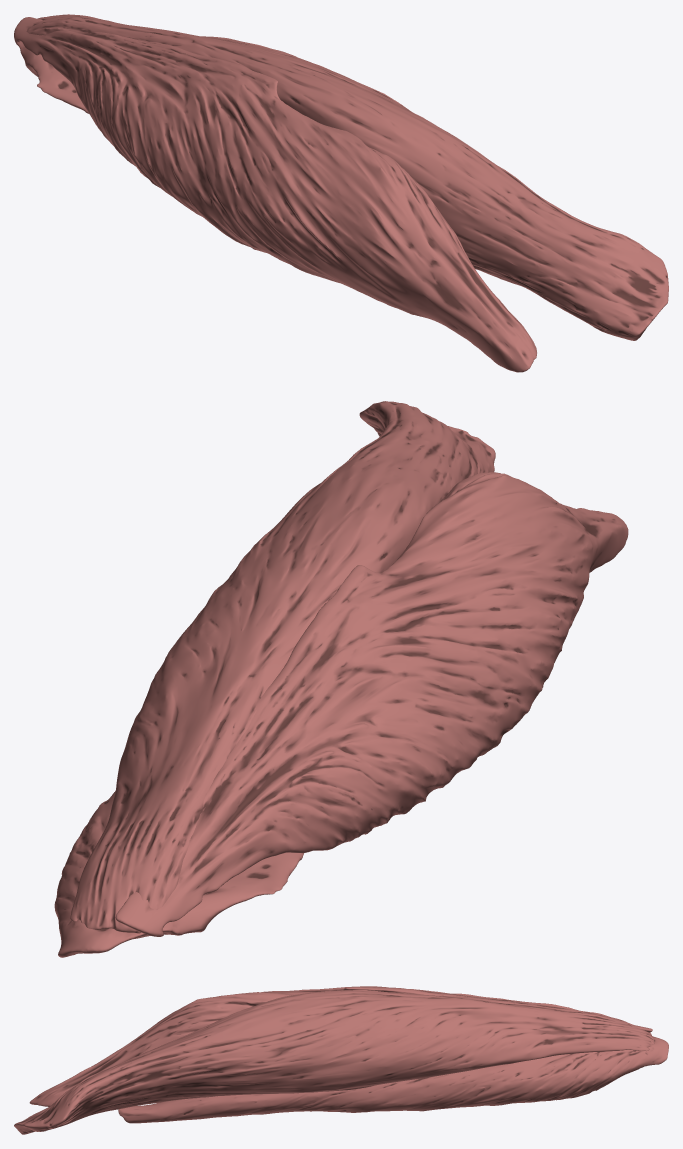
File: triceps.e52483034b.glb
3 views of the same model, one above another, from view 1: azimuth 30°, elevation 25°; view 2: azimuth 150°, elevation 25°; view 3: azimuth 270°, elevation 25° (orthographic). The views are drawn at different scales.
Parts seen in each view (by area): view 1: FMA37697, FMA37699, FMA37695; view 2: FMA37697, FMA37699, FMA37695; view 3: FMA37699, FMA37695, FMA37697.
Boxes of the visible parts, x1,y1,x2,y2 form: FMA37697: (14,17,536,372); FMA37699: (26,14,668,340); FMA37695: (18,41,88,113); FMA37697: (115,472,628,936); FMA37699: (70,401,495,933); FMA37695: (54,791,303,957); FMA37699: (14,990,654,1134); FMA37695: (118,1036,668,1123); FMA37697: (29,986,652,1106).
Size of the model in its own units: 101 by 52.94 by 269.
